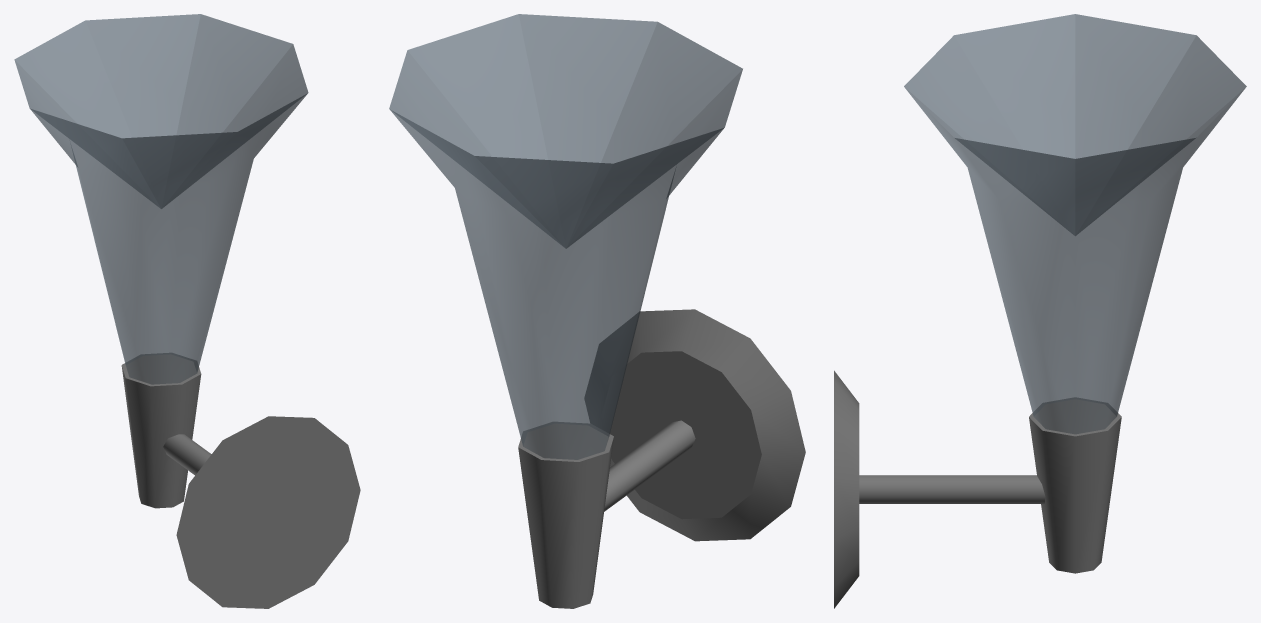
The model's file is sconce2.FBX.
3 views of the same model, side by side, from view 1: azimuth 30°, elevation 25°; view 2: azimuth 150°, elevation 25°; view 3: azimuth 270°, elevation 25° (orthographic). The views are drawn at different scales.
Visible parts, largest first — view 1: sconce2; view 2: sconce2; view 3: sconce2.
Boxes of the visible parts, <box> form: sconce2: <box>14,14,360,608</box>; sconce2: <box>389,14,805,608</box>; sconce2: <box>834,14,1246,608</box>.
Size of the model in its own units: 28.93 by 47.63 by 34.81.
